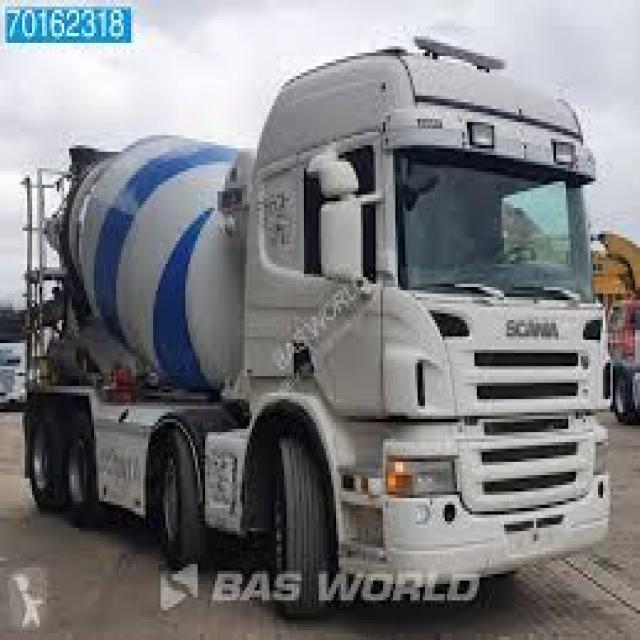Mixer Truck: (16, 37, 614, 618)
